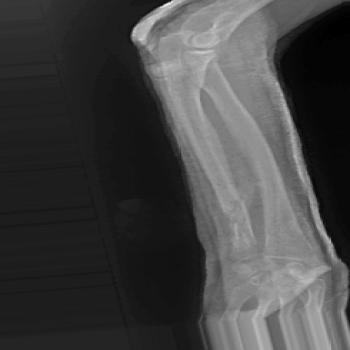Fracture: (225, 192, 253, 230)
